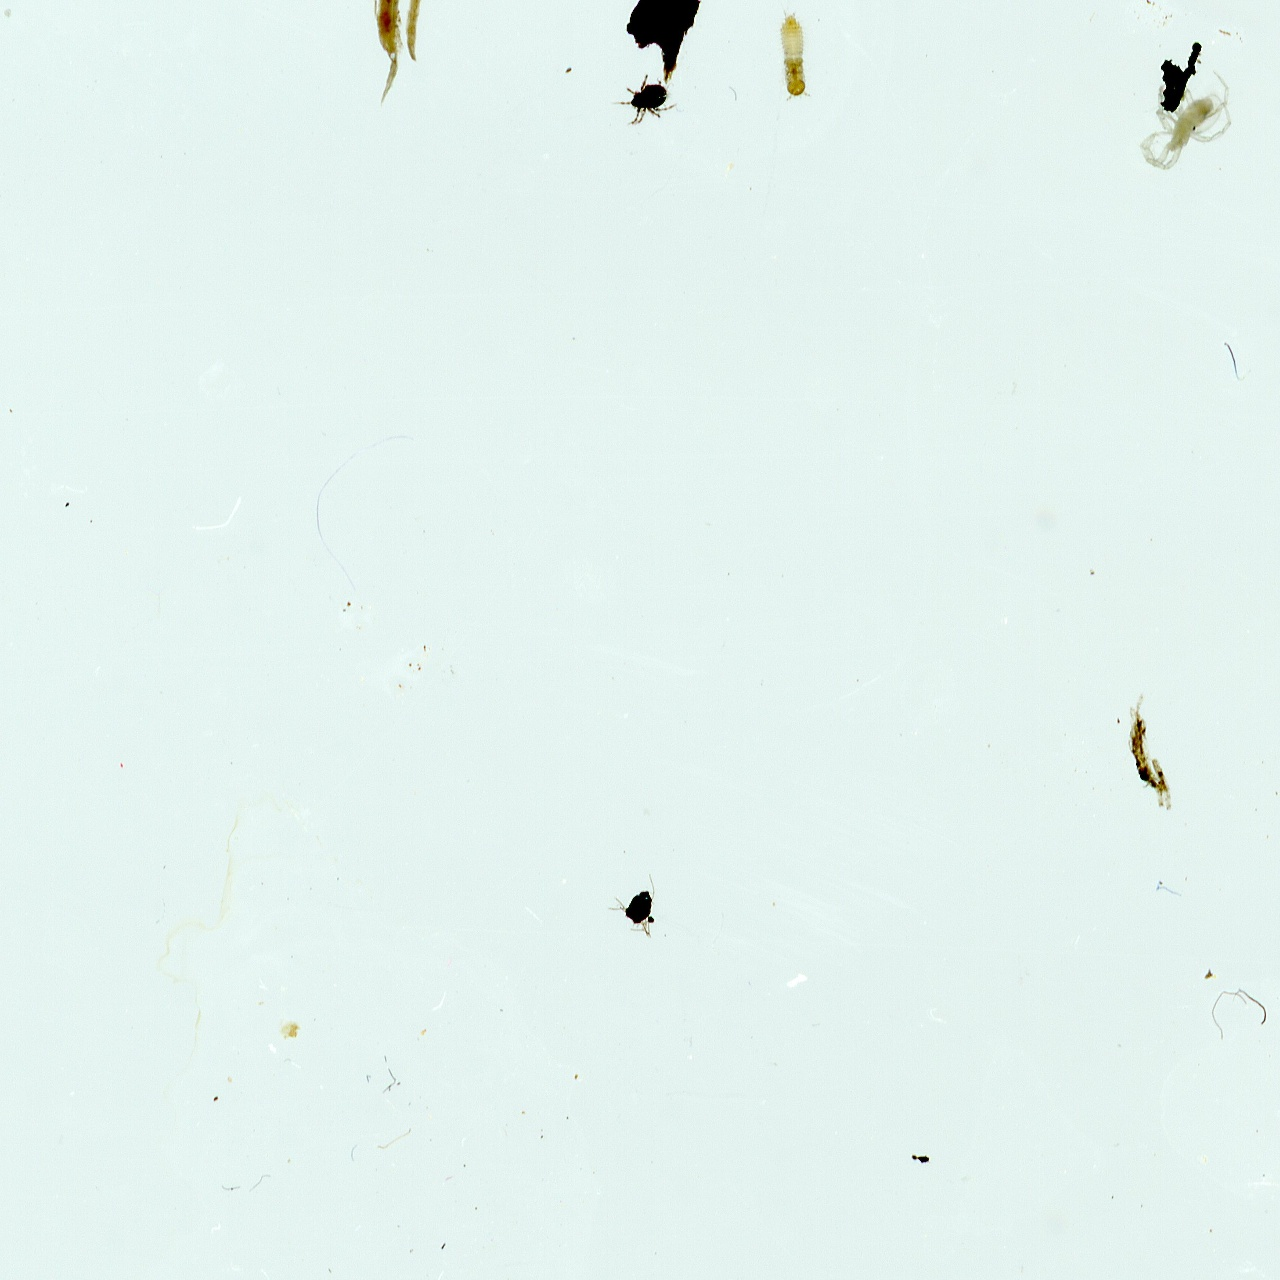arthropod: (1138, 63, 1253, 192), (609, 71, 681, 129), (776, 0, 813, 103)
